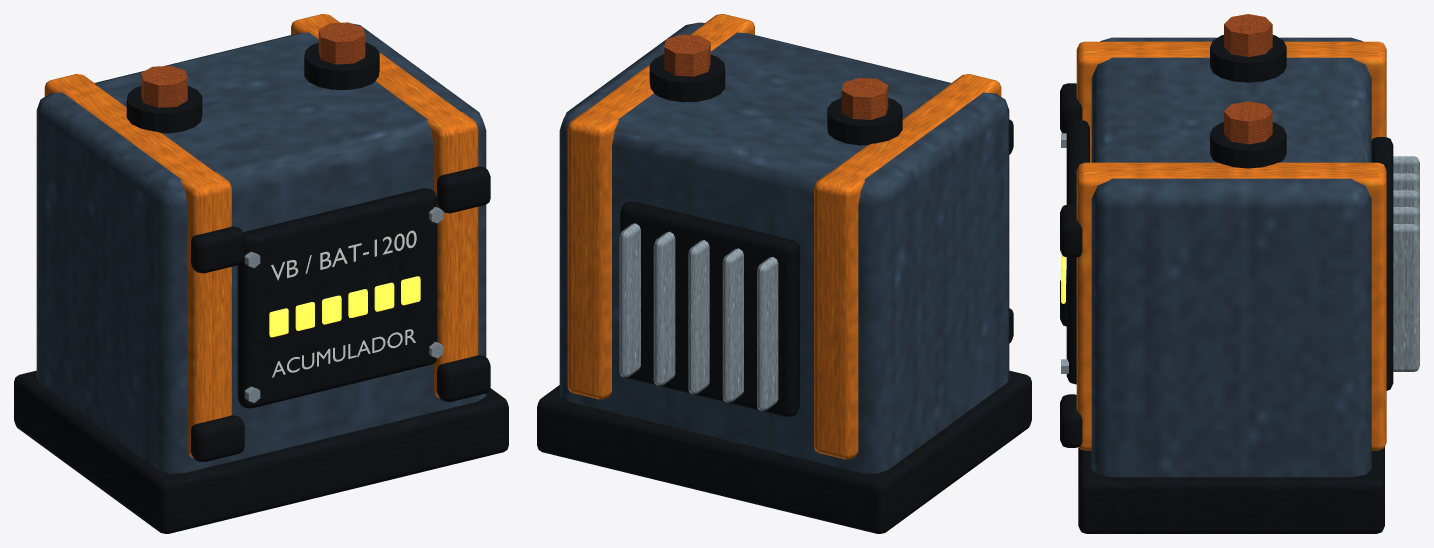
The model's file is bateria.glb.
3 renders of one model, left to right at view 1: azimuth 30°, elevation 25°; view 2: azimuth 150°, elevation 25°; view 3: azimuth 270°, elevation 25°, orthographic.
Visible parts, largest first — view 1: Carcaça do acumulador.001, Bandeja isolante.001, Barra de proteção.002, Terminal de cobre.002, Indicador de carga.006, ACUMULADOR.001, Aleta traseira.005; view 2: Carcaça do acumulador.001, Bandeja isolante.001, Barra de proteção.002, Aleta traseira.005, Terminal de cobre.002; view 3: Carcaça do acumulador.001, Bandeja isolante.001, Barra de proteção.002, Aleta traseira.005, Terminal de cobre.002.
Boxes of the visible parts, x1=… form: Carcaça do acumulador.001: x1=36, y1=23, x2=486, y2=473; Bandeja isolante.001: x1=14, y1=42, x2=508, y2=533; Barra de proteção.002: x1=44, y1=14, x2=478, y2=458; Terminal de cobre.002: x1=141, y1=22, x2=365, y2=107; Indicador de carga.006: x1=269, y1=276, x2=420, y2=337; ACUMULADOR.001: x1=271, y1=230, x2=416, y2=377; Aleta traseira.005: x1=244, y1=207, x2=443, y2=402; Carcaça do acumulador.001: x1=559, y1=22, x2=1009, y2=473; Bandeja isolante.001: x1=537, y1=54, x2=1031, y2=533; Barra de proteção.002: x1=567, y1=14, x2=1001, y2=459; Aleta traseira.005: x1=619, y1=223, x2=778, y2=410; Terminal de cobre.002: x1=664, y1=34, x2=888, y2=119; Carcaça do acumulador.001: x1=1091, y1=37, x2=1371, y2=477; Bandeja isolante.001: x1=1060, y1=35, x2=1393, y2=533; Barra de proteção.002: x1=1076, y1=41, x2=1386, y2=450; Aleta traseira.005: x1=1061, y1=133, x2=1419, y2=373; Terminal de cobre.002: x1=1224, y1=14, x2=1272, y2=144.
Bounding box in the file's own units: 1.22 × 1.27 × 1.08.
Materials: 7 (5 with a texture image).
